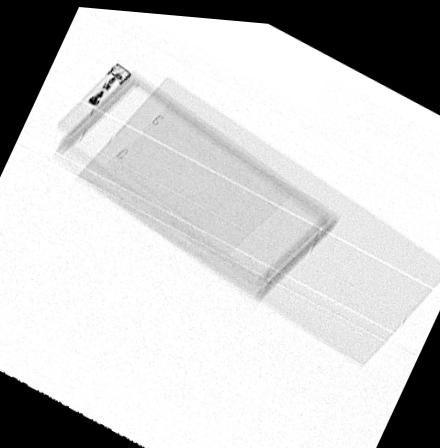Lighter: (55, 61, 133, 139)
